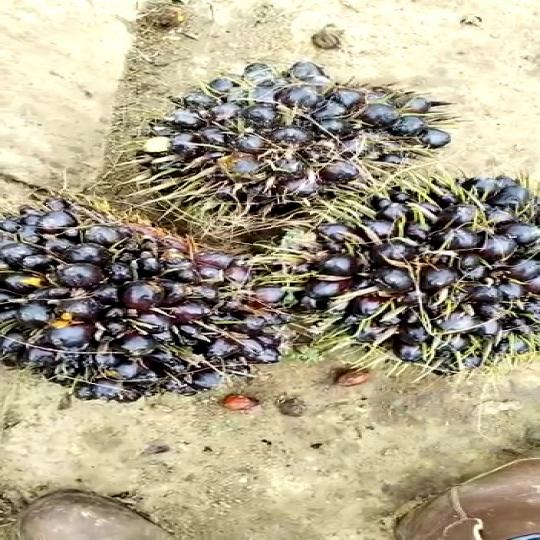mentah: (0, 186, 295, 400), (136, 55, 469, 224), (274, 173, 540, 381)
